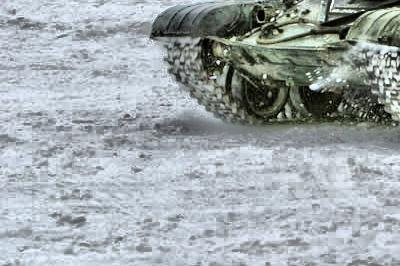tanks: (151, 1, 400, 126)
